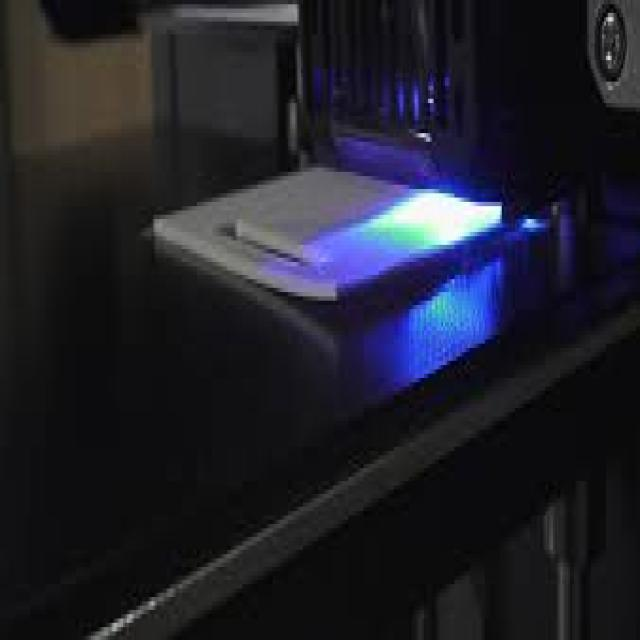Warping: (268, 255, 418, 338)
